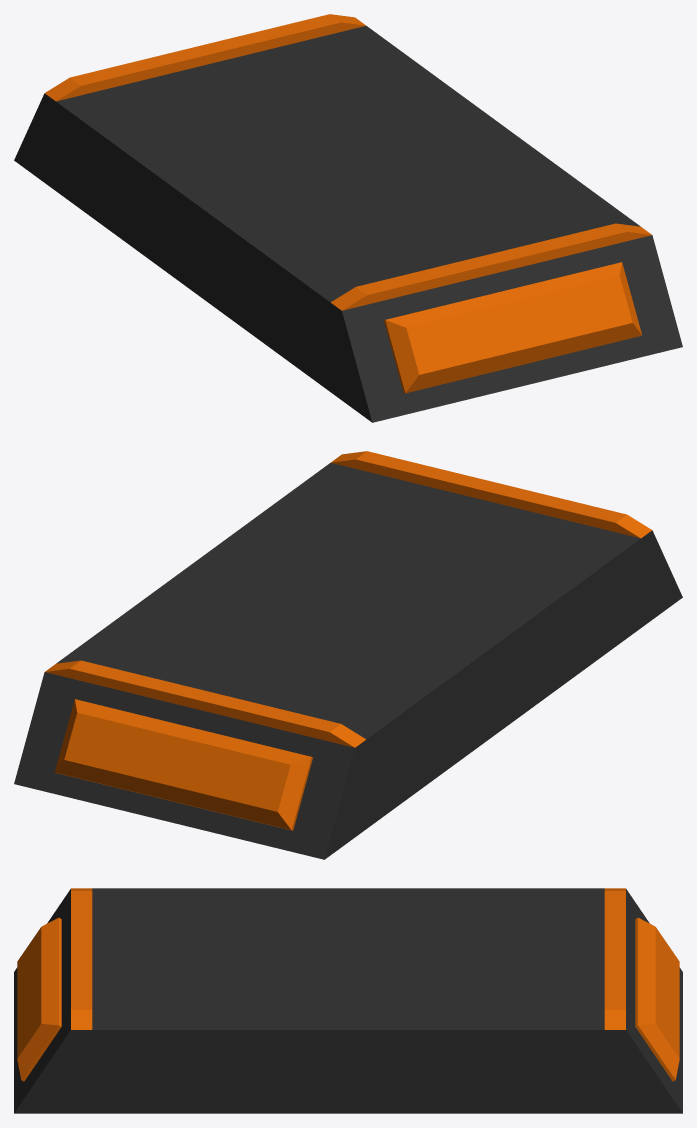
Rendered from block2.fbx.
3 views of the same model, one above another, from view 1: azimuth 30°, elevation 25°; view 2: azimuth 150°, elevation 25°; view 3: azimuth 270°, elevation 25° (orthographic). The views are drawn at different scales.
Parts seen in each view (by area): view 1: Cube.001; view 2: Cube.001; view 3: Cube.001.
Boxes of the visible parts, bbox=[...] form: Cube.001: bbox=[14, 14, 682, 422]; Cube.001: bbox=[14, 451, 682, 859]; Cube.001: bbox=[14, 888, 682, 1113].
Size of the model in its own units: 200 by 61 by 400.
